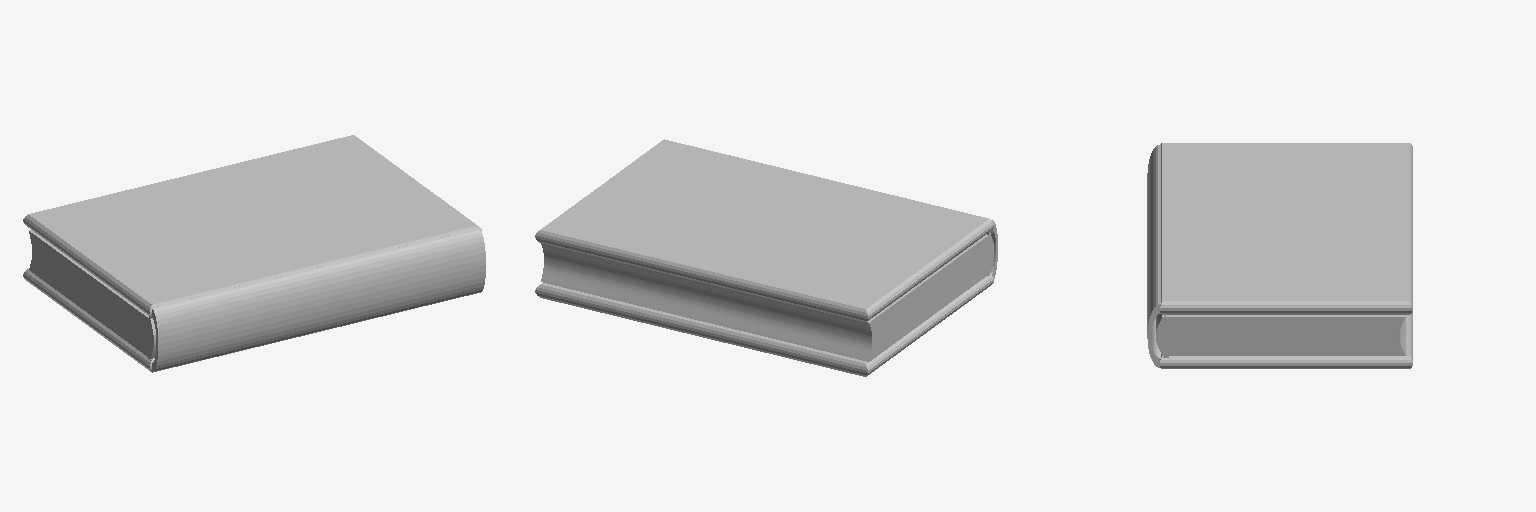
File: roman.obj
3 views of the same model, side by side, from view 1: azimuth 30°, elevation 25°; view 2: azimuth 150°, elevation 25°; view 3: azimuth 270°, elevation 25° (orthographic).
Visible parts, largest first — view 1: Cube.001, Cylindre, Cube.002; view 2: Cube.001, Cube.002; view 3: Cube.001, Cube.002, Cylindre.
Boxes of the visible parts, <box> form: Cube.001: <box>23,135,481,372</box>; Cylindre: <box>148,228,485,371</box>; Cube.002: <box>29,230,155,358</box>; Cube.001: <box>535,139,993,376</box>; Cube.002: <box>541,233,993,361</box>; Cube.001: <box>1160,143,1412,368</box>; Cube.002: <box>1156,314,1405,355</box>; Cylindre: <box>1147,144,1168,367</box>.
Size of the model in its own units: 0.1512 by 0.0295 by 0.1044.